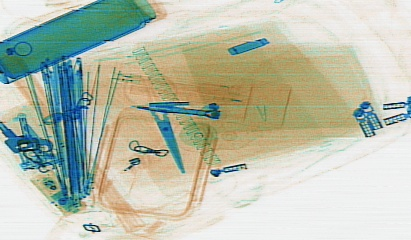scissors: (118, 71, 185, 173)
